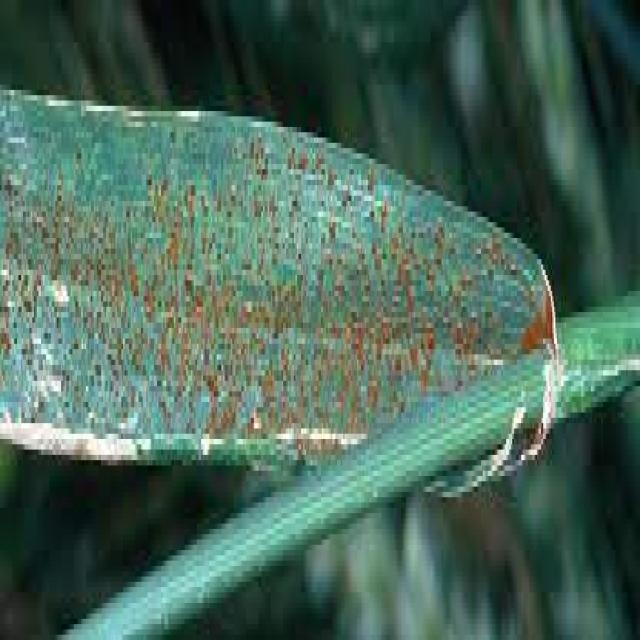leaf rust: (2, 95, 536, 434)
